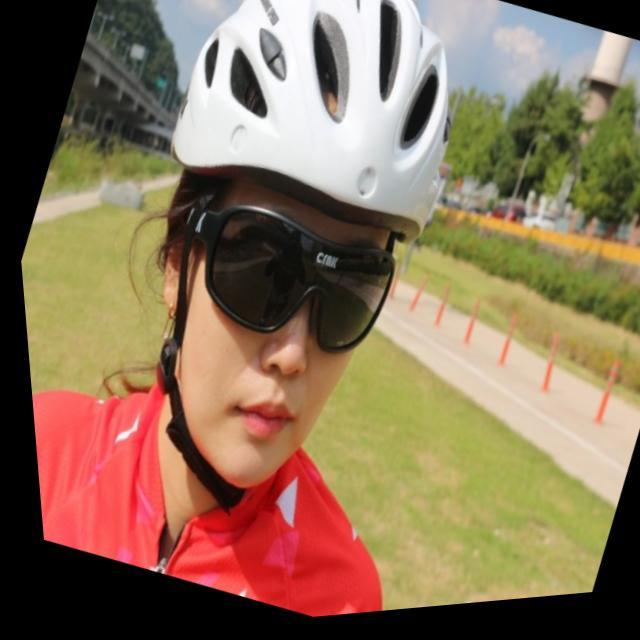Helmet: (98, 1, 457, 501)
